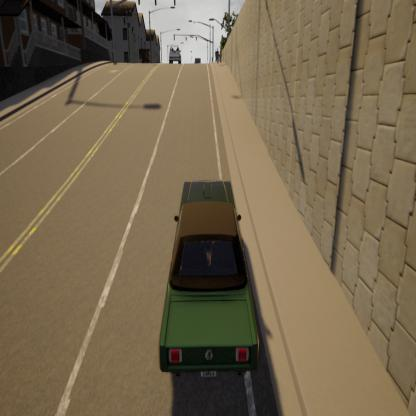Cars: (154, 174, 267, 387), (167, 42, 184, 66)
Pedestrian: (214, 46, 222, 66)
